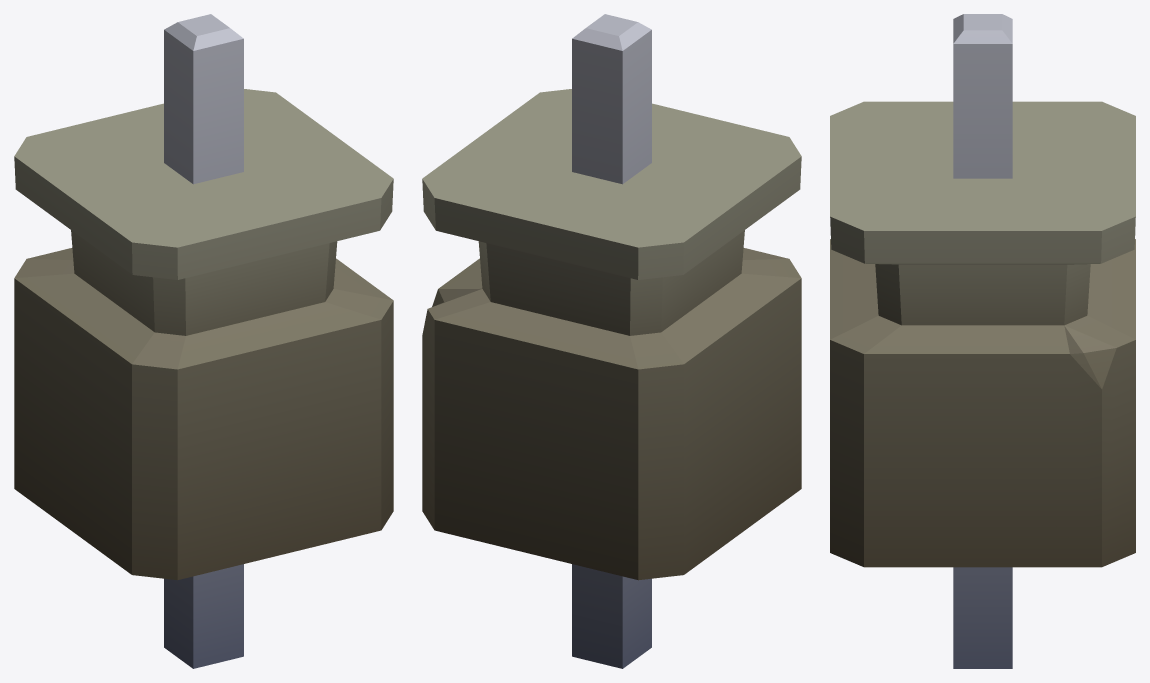
Rendered from tomb tower.fbx.
The picture shows the model from 3 angles, left to right: view 1: azimuth 30°, elevation 25°; view 2: azimuth 150°, elevation 25°; view 3: azimuth 270°, elevation 25°; orthographic projection.
Visible parts, largest first — view 1: Cube.112, Cube.121; view 2: Cube.112, Cube.121; view 3: Cube.112, Cube.121.
Part boxes in pixels (box(x1,y1,x2,y2)): Cube.112: box(14, 89, 393, 580); Cube.121: box(164, 14, 243, 668); Cube.112: box(422, 89, 801, 580); Cube.121: box(572, 14, 651, 668); Cube.112: box(830, 101, 1135, 567); Cube.121: box(953, 14, 1012, 668).
Bounding box in the file's own units: 130 × 298 × 130.
